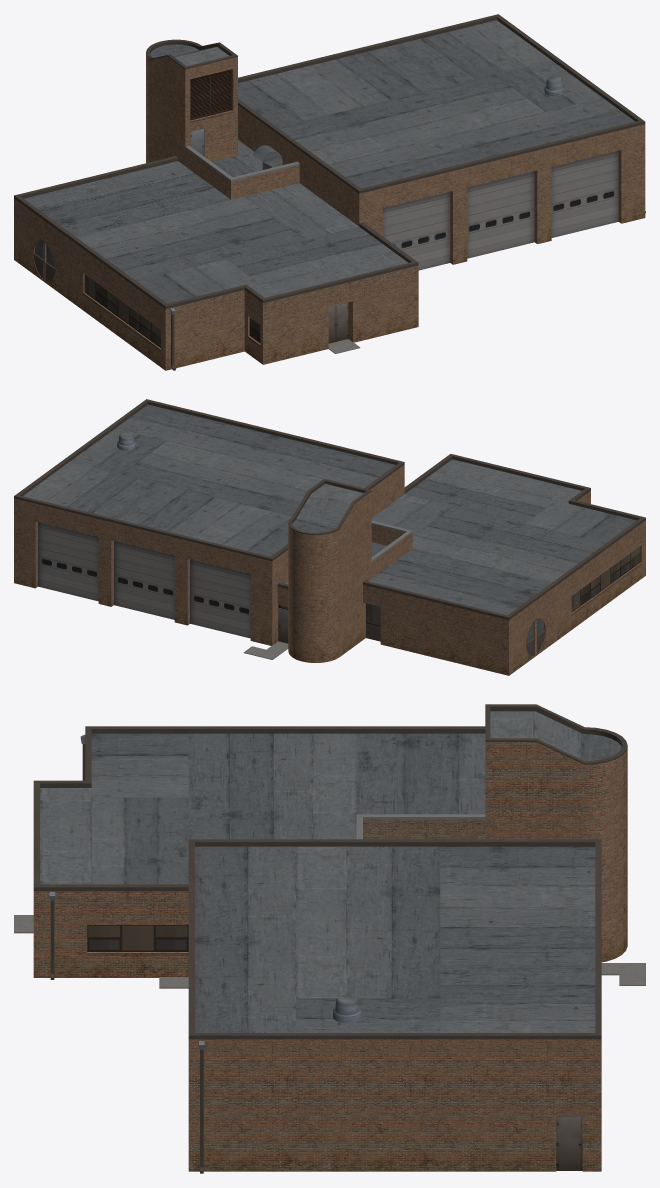
Rendered from model_fixed.glb.
3 views of the same model, one above another, from view 1: azimuth 30°, elevation 25°; view 2: azimuth 150°, elevation 25°; view 3: azimuth 270°, elevation 25° (orthographic). The views are drawn at different scales.
Visible parts, largest first — view 1: polySurface1; view 2: polySurface1; view 3: polySurface1.
Boxes of the visible parts, x1,y1,x2,y2 form: polySurface1: (14,14,645,370); polySurface1: (14,399,645,675); polySurface1: (14,704,645,1173).
Size of the model in its own units: 3280 by 956 by 2447.
1 material, 1 textured.
